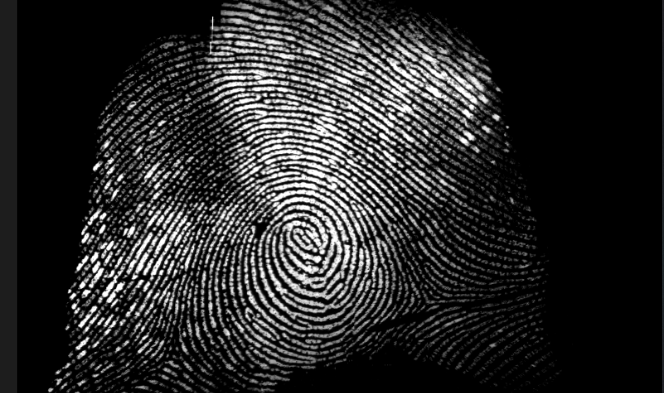deltas: (144, 328, 199, 376), (403, 276, 446, 327)
nucleo: (270, 201, 334, 265)
